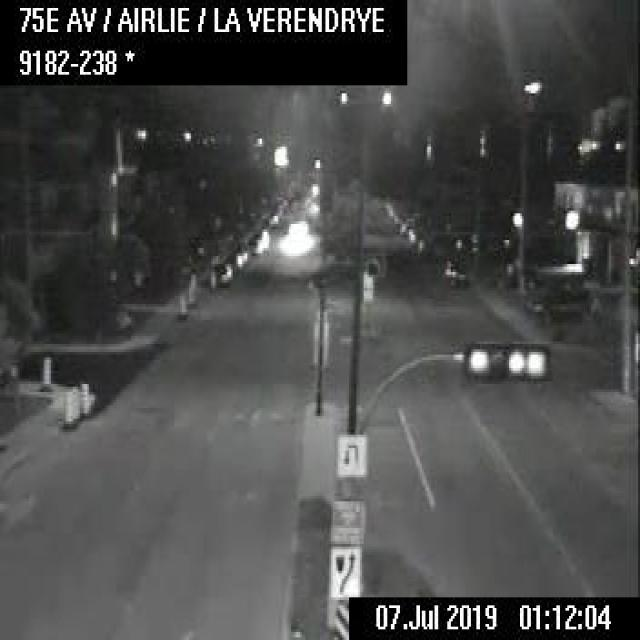construction: (39, 352, 51, 390), (79, 380, 90, 415), (186, 270, 195, 306), (62, 387, 70, 426), (177, 284, 186, 314), (207, 264, 214, 291)
vehicle: (525, 284, 585, 321), (440, 258, 464, 282), (215, 257, 232, 283), (228, 246, 248, 268), (70, 383, 80, 418), (246, 235, 263, 255)
